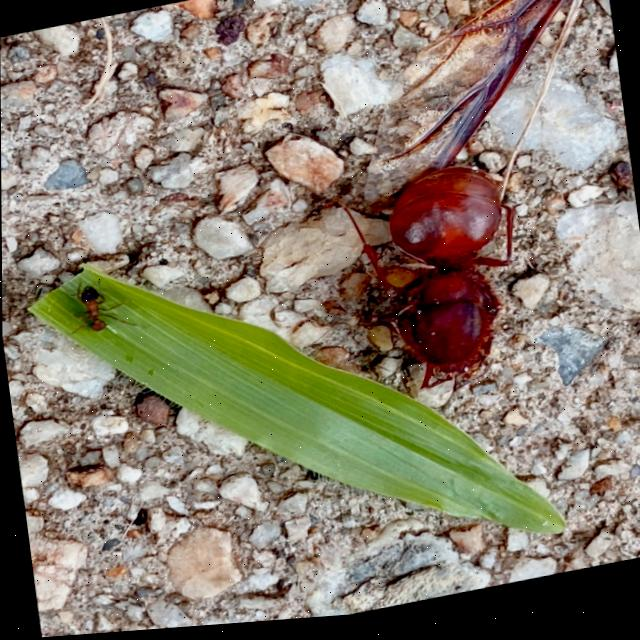Dead-Male-Dealate: (339, 160, 538, 415)
